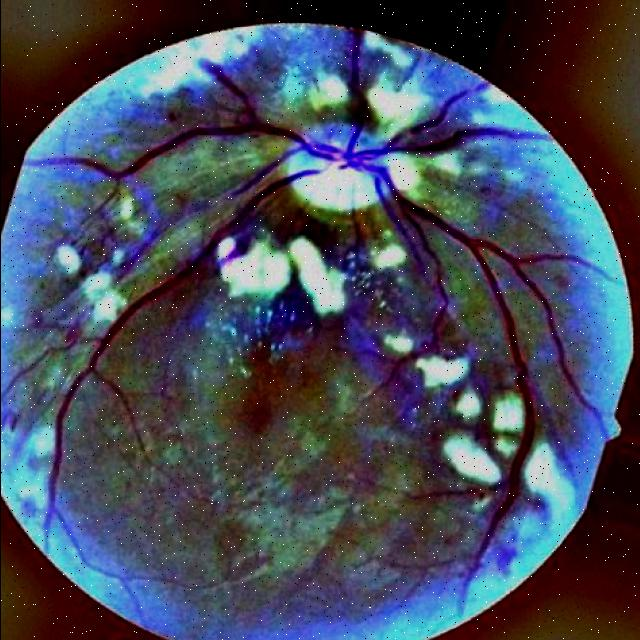Nerves: (36, 30, 599, 583), (409, 82, 491, 136)
Optic Disk: (282, 123, 420, 213)
